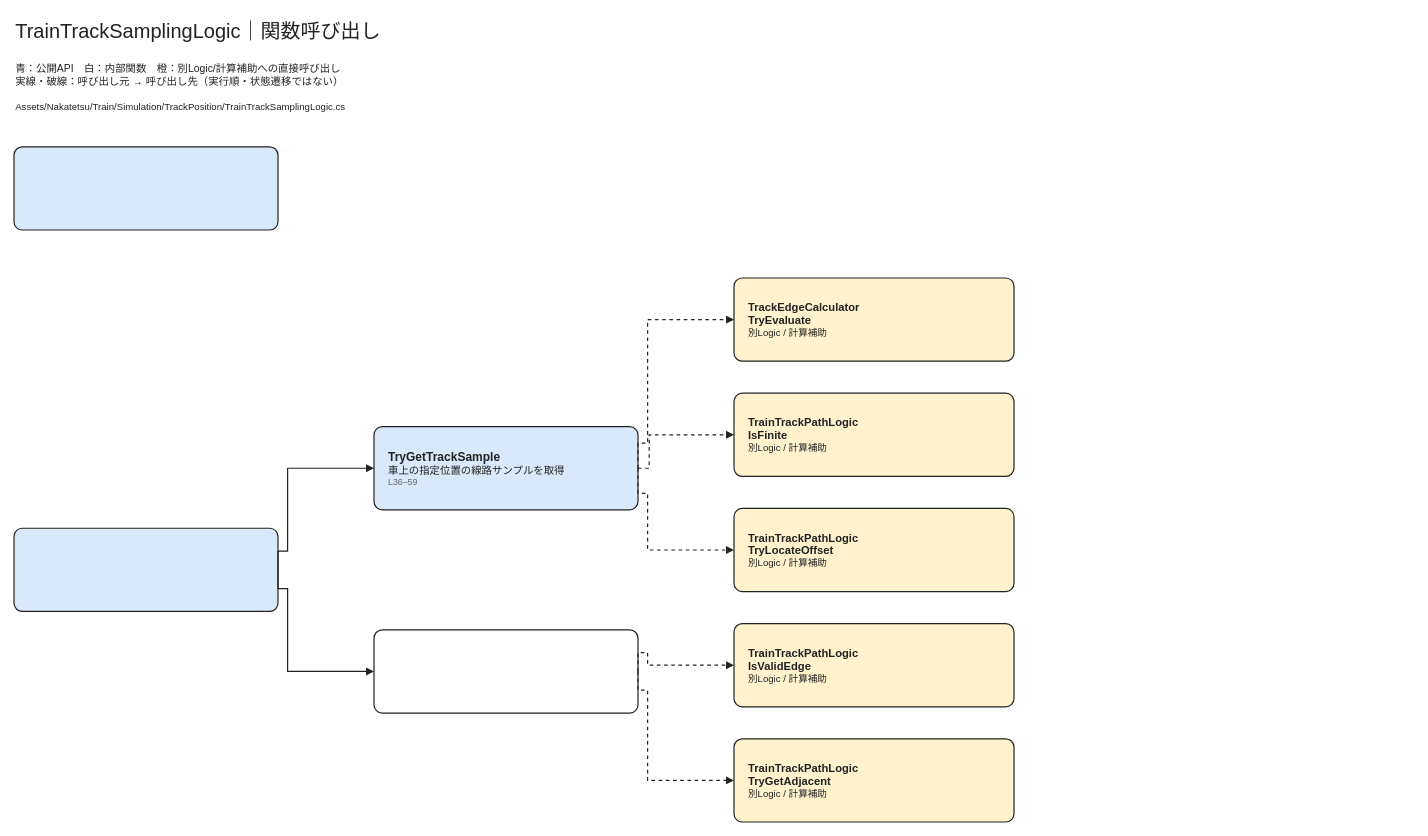
This 1428x836 diagram has some shape labels left out. Each missing label, with the box of its shape:
Configure Layout 車両・台車の相対offsetを設定 L11–33: (13, 146, 278, 230)
Refresh Output 全車の台車サンプルと占有範囲を再構築 L62–104: (13, 527, 278, 612)
Try Build Occupied Edges 先頭〜最後尾台車間の占有Edgeを構築 L106–169: (373, 629, 638, 713)
